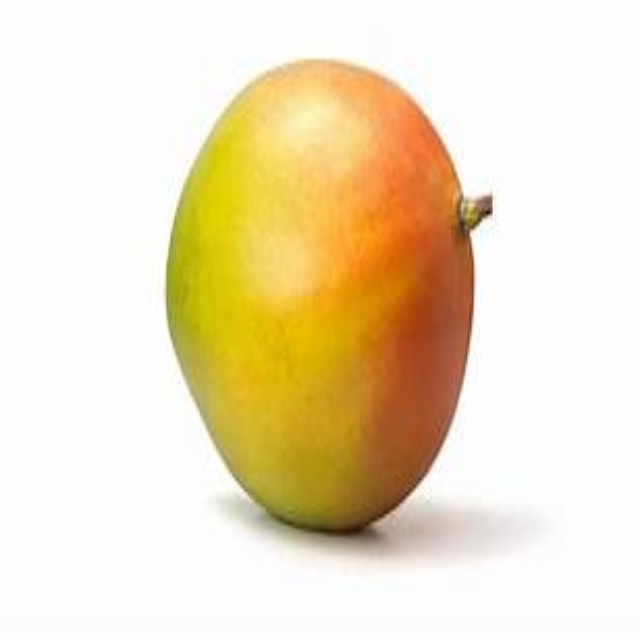mango: (167, 57, 479, 533)
